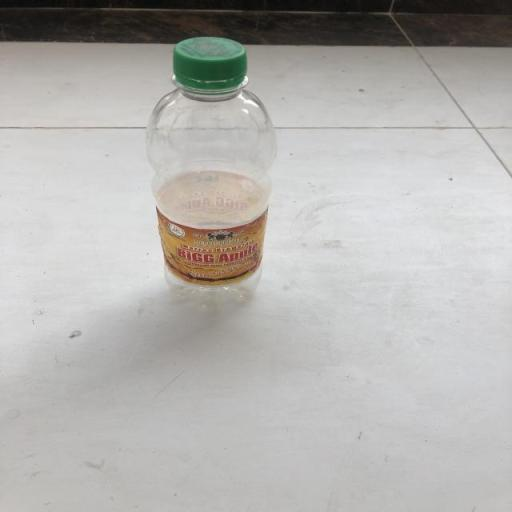plastic: (142, 35, 282, 307)
